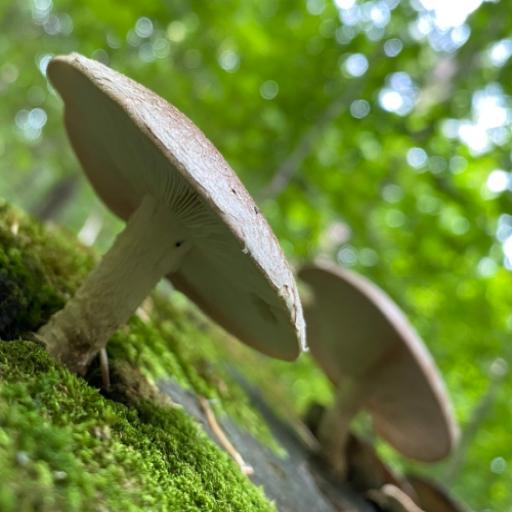Shiitake Mushroom: (19, 39, 311, 371)
